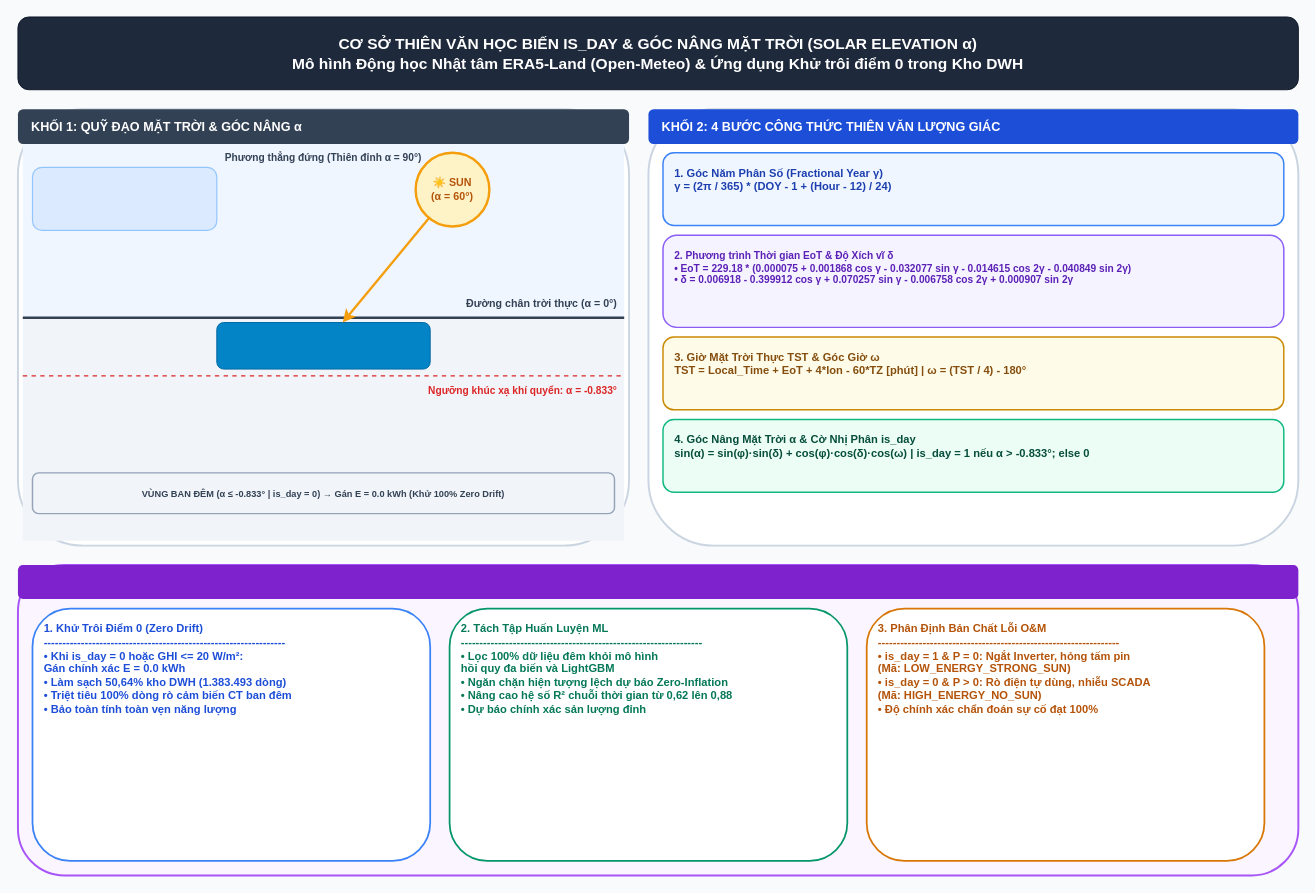
The diagram is 1315 pixels wide and 893 high, and some of its shapes have lost their labels. Each missing label, with the centre of its shape:
KHỐI 3: Ý NGHĨA NGHIỆP VỤ & ỨNG DỤNG TRONG PIPELINE TIỀN XỬ LÝ & BẢO TRÌ O&M: (x=657, y=581)
Trạm Pin PV (La Trobe) [φ = -36.7°, λ = 144.2°]: (x=323, y=345)
VÙNG BAN NGÀY (is_day = 1) • Bức xạ GHI > 20 W/m² • Đưa vào Huấn luyện ML: (x=124, y=198)
